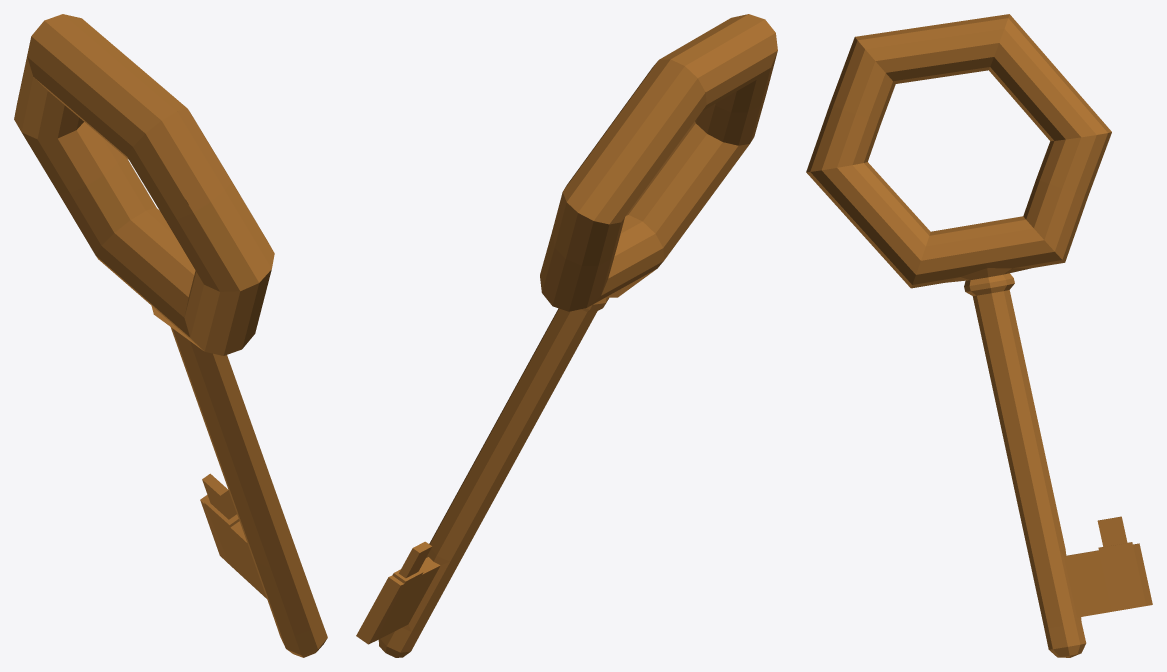
File: keyanim.fbx
The picture shows the model from 3 angles, left to right: view 1: azimuth 30°, elevation 25°; view 2: azimuth 150°, elevation 25°; view 3: azimuth 270°, elevation 25°; orthographic projection. The views are drawn at different scales.
Visible parts, largest first — view 1: Torus; view 2: Torus; view 3: Torus.
Boxes of the visible parts, bbox=[...] form: Torus: bbox=[14, 14, 327, 657]; Torus: bbox=[356, 14, 777, 657]; Torus: bbox=[806, 14, 1152, 657].
Bounding box in the file's own units: 244 × 511 × 297.
1 material, 1 textured.
